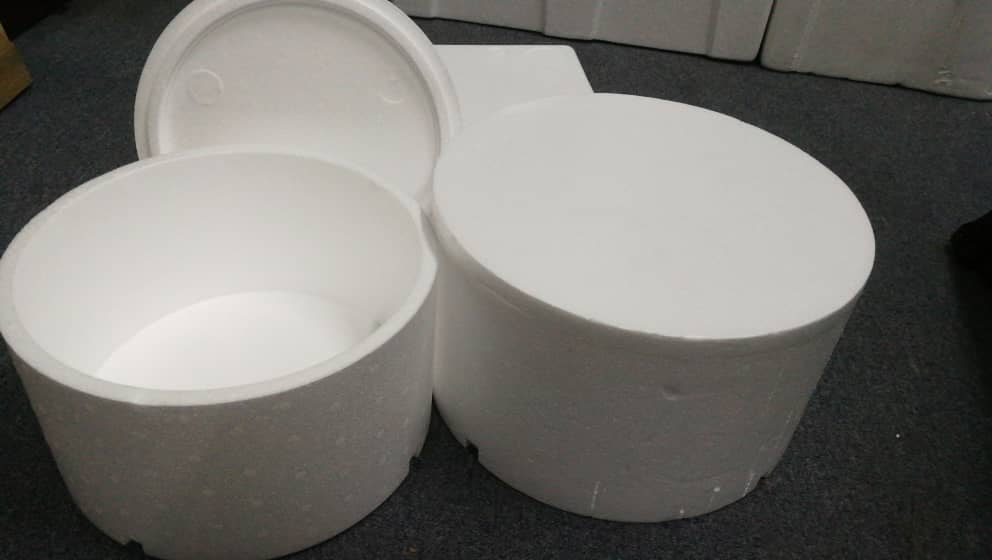FoamBox: (421, 88, 880, 525)
